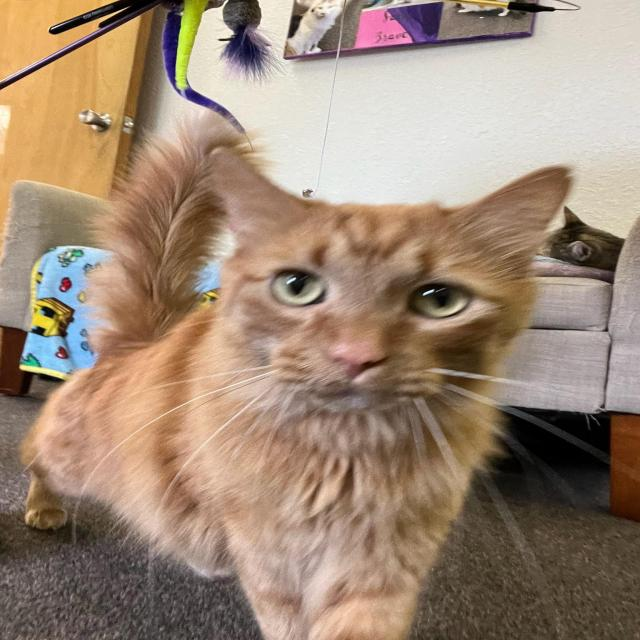domestic_long_hair_cat: (181, 134, 579, 434)
